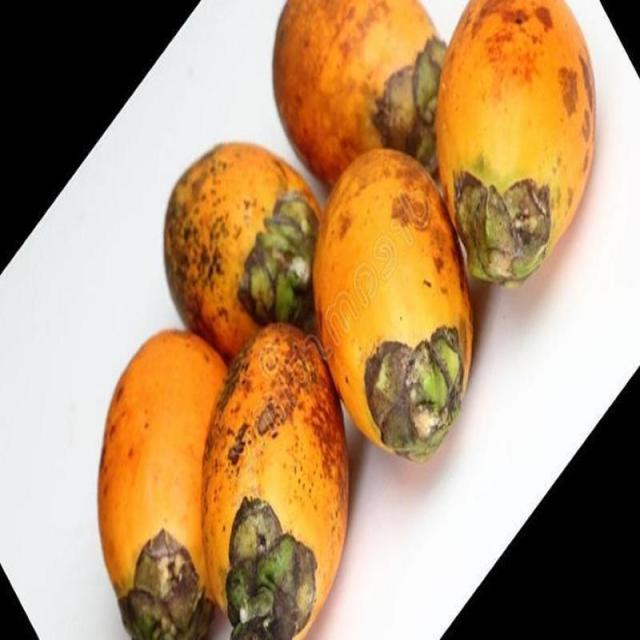good: (313, 149, 474, 465), (194, 323, 350, 639), (434, 0, 597, 289), (95, 330, 245, 639), (162, 144, 325, 363), (272, 0, 446, 191)
